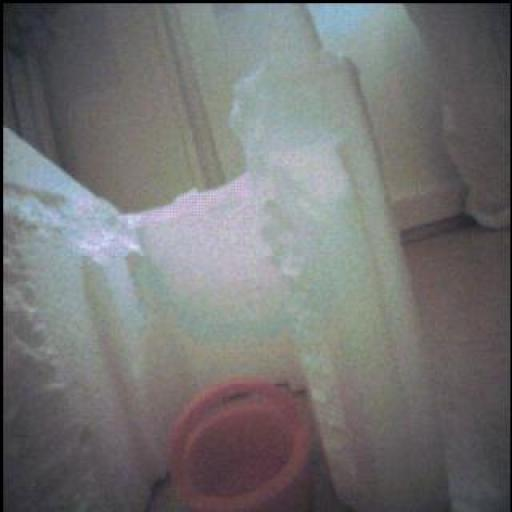Basket: (173, 380, 312, 512)
